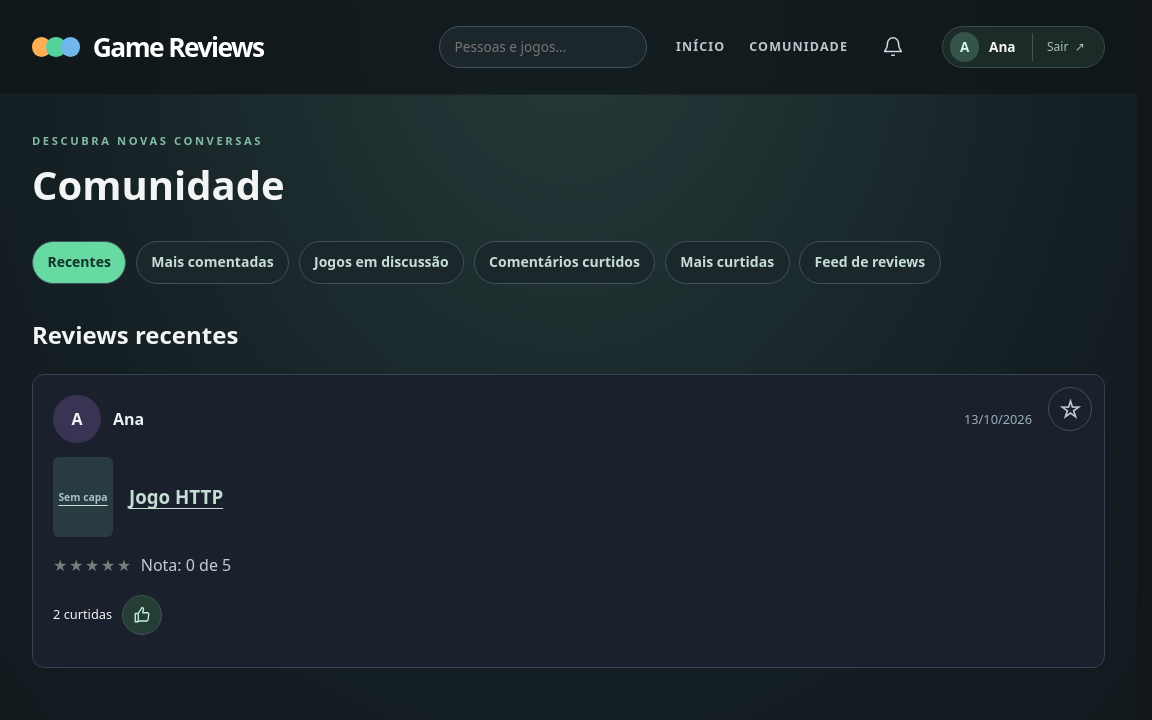
usa a contagem da API, incluindo curtidas concorrentes, sem incremento local
The width and height of the screenshot is (1152, 720).
Click the button named "Curtir review de Ana".
click(142, 615)  # box [122,595,162,635]
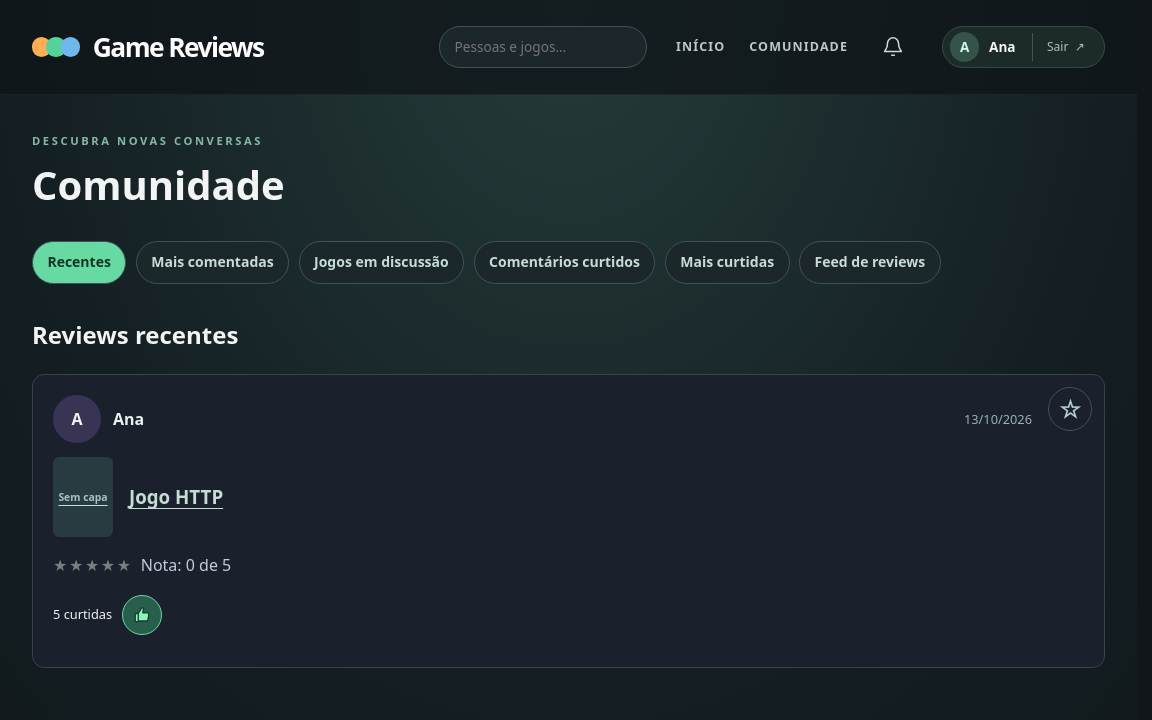
Expected: the icon below "Nota" is shown, [134,606,152,624]
Expected: the text "5 curtidas" is shown, [53,604,112,625]
